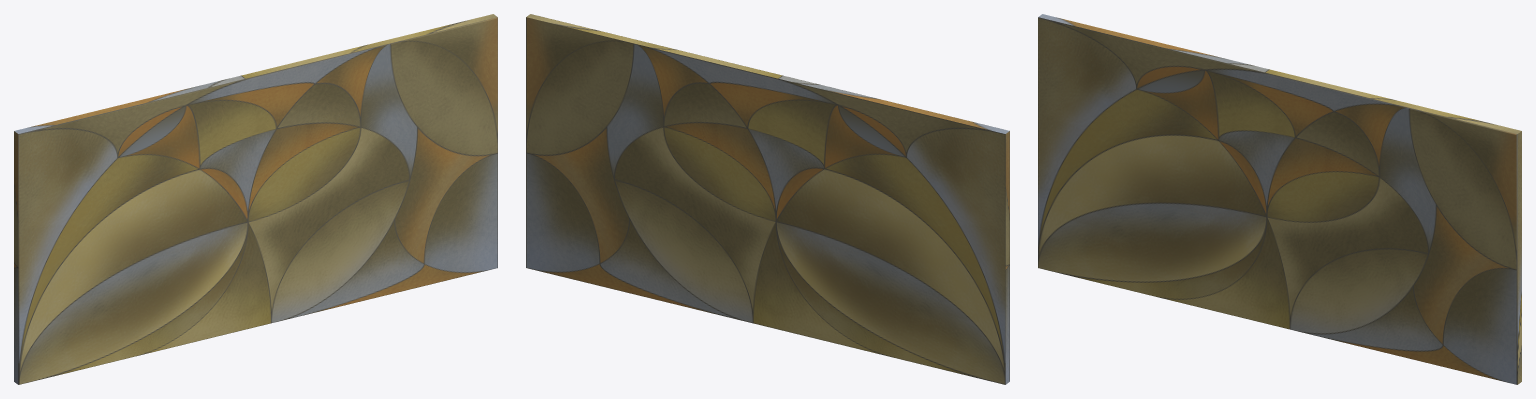
Rendered from ArtP-RtLgU.fbx.
3 renders of one model, left to right at view 1: azimuth 30°, elevation 25°; view 2: azimuth 150°, elevation 25°; view 3: azimuth 330°, elevation 25°, orthographic.
Visible parts, largest first — view 1: CanvasL; view 2: CanvasL; view 3: CanvasL.
Boxes of the visible parts, box(x1,y1,x2,y2) form: CanvasL: box(14, 14, 497, 384); CanvasL: box(526, 14, 1009, 384); CanvasL: box(1038, 14, 1521, 384).
Bounding box in the file's own units: 183 × 91.44 × 3.17.
